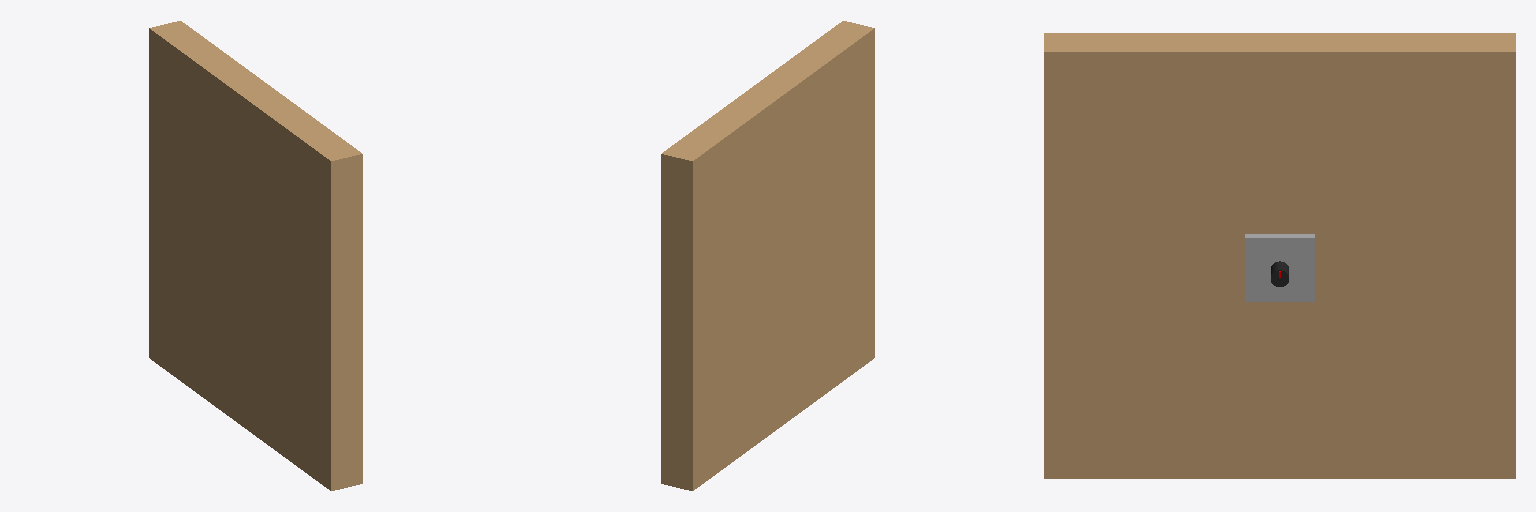
The robot description file, URDF, robot "knob_exp":
<?xml version="1.0"?>
<robot name="knob_exp">
    <link name="base_link">
        <visual >
            <origin rpy="0 0 0" xyz="-0.05 0 0" />
            <geometry >
                <box size="0.1 1 1" />
            </geometry>
            <material >
                <color rgba="0.8039 0.6667 0.4902 1" />
            </material>
        </visual>
        <collision >
            <origin rpy="0 0 0" xyz="-0.05 0 0" />
            <geometry >
                <box size="0.1 1 1" />
            </geometry>
        </collision>
        <inertial >
            <origin rpy="0 0 0" xyz="0 0 0" />
            <mass value="2.5" />
            <inertia izz="1.0" ixy="0.0" ixz="0.0" iyy="1.0" ixx="1.0" iyz="0.0" />
        </inertial>
    </link>
    <link name="knob_base">
        <visual >
            <origin rpy="0 0 0" xyz="0.01 0 0" />
            <geometry >
                <box size="0.02 0.15 0.15" />
            </geometry>
            <material >
                <color rgba="0.7 0.7 0.7 1" />
            </material>
        </visual>
        <collision >
            <origin rpy="0 0 0" xyz="0.01 0 0" />
            <geometry >
                <box size="0.02 0.15 0.15" />
            </geometry>
            <material >
                <color rgba="1 1 1 1" />
            </material>
        </collision>
        <inertial >
            <origin rpy="0 0 0" xyz="0 0 0" />
            <mass value="0.2" />
            <inertia izz="0.000833" ixy="0" ixz="0" iyy="0.000833" ixx="0.000833" iyz="0" />
        </inertial>
    </link>
    <link name="knob">
        <visual >
            <origin rpy="0 1.5707963267948966 0" xyz="0.04 0 0" />
            <geometry >
                <cylinder radius="0.02" length="0.05" />
            </geometry>
            <material >
                <color rgba="0.2 0.2 0.2 1" />
            </material>
        </visual>
        <inertial >
            <origin rpy="0 0 0" xyz="0 0 0" />
            <mass value="0.4" />
            <inertia izz="0.0001" ixy="0" ixz="0" iyy="0.0001" ixx="0.0001" iyz="0" />
        </inertial>
        <collision >
            <origin rpy="0 1.5707963267948966 0" xyz="0.04 0 0" />
            <geometry >
                <cylinder radius="0.02" length="0.05" />
            </geometry>
            <material >
                <color rgba="1 1 1 1" />
            </material>
        </collision>
    </link>
    <joint type="fixed" name="base_link_knob_base_joint">
        <parent link="base_link" />
        <child link="knob_base" />
        <origin rpy="0 0 0" xyz="0 0 0" />
    </joint>
    <joint type="revolute" name="actuator_1_joint">
        <parent link="knob_base" />
        <child link="knob" />
        <origin rpy="0 0 0" xyz="0 0 0" />
        <axis xyz="1 0 0" />
        <limit lower="-1.5707963267948966" upper="3.141592653589793" velocity="5" effort="2" />
        <dynamics friction="0.02" damping="0" />
    </joint>
    <link name="indicator">
        <visual >
            <origin rpy="0 1.5707963267948966 0" xyz="0.065 0 0.01" />
            <geometry >
                <box size="0.015 0.004 0.003" />
            </geometry>
            <material >
                <color rgba="1 0 0 1" />
            </material>
        </visual>
    </link>
    <joint type="fixed" name="knob_knob_indicator_joint">
        <parent link="knob" />
        <child link="indicator" />
        <origin rpy="0 0 0" xyz="0 0 0" />
    </joint>
</robot>

--- Facts derived from the render (not from the file) ---
Views: 3 orthographic renders of the robot side by side, from view 1: azimuth 30°, elevation 25°; view 2: azimuth 150°, elevation 25°; view 3: azimuth 270°, elevation 25°.
Robot: knob_exp — 4 links, 3 joints (1 revolute, 2 fixed); root link base_link; default pose: all joints at 0.
Visible links, largest first — view 1: base_link; view 2: base_link; view 3: base_link, knob_base.
Link boxes in pixels (x1,y1,x2,y2): base_link: (149,21,362,490); base_link: (661,21,874,490); base_link: (1044,33,1515,478); knob_base: (1245,234,1314,301).
Size in the robot's own frame: 0.1665 by 1 by 1 metres.
Geometry: primitives only (box / cylinder / sphere), no mesh files.